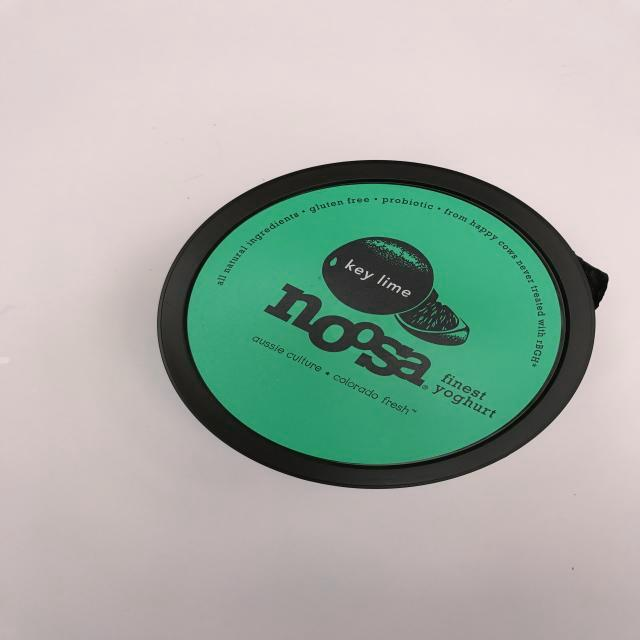plastic: (129, 148, 633, 518)
